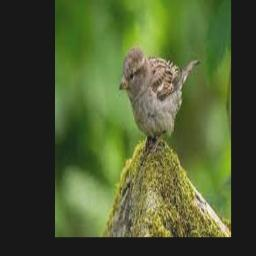Sparrow: (118, 44, 200, 152)
